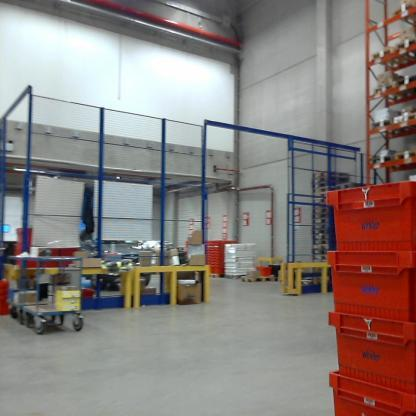pallets: (364, 38, 414, 67), (367, 107, 416, 132), (372, 150, 416, 164), (240, 275, 276, 282)
